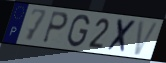2: (88, 17, 112, 50)
7: (25, 7, 48, 43)
G: (66, 13, 91, 48)
P: (41, 10, 70, 45)
V: (133, 20, 161, 56)
X: (105, 17, 139, 55)
